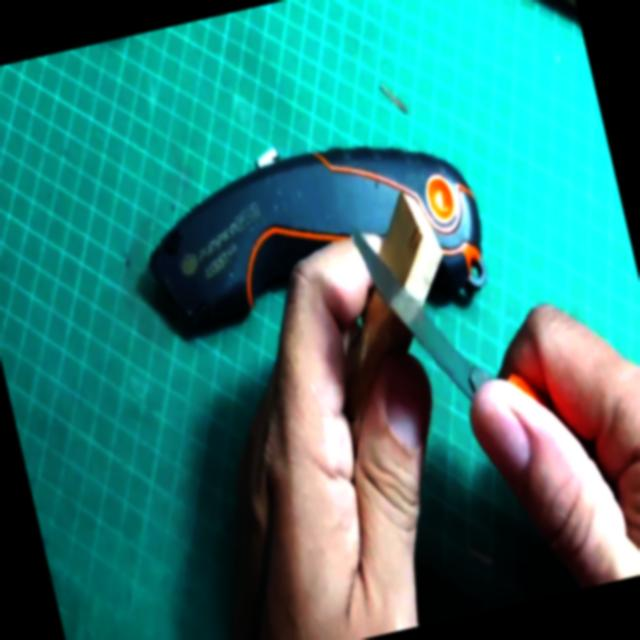cutter: (105, 61, 640, 640)
